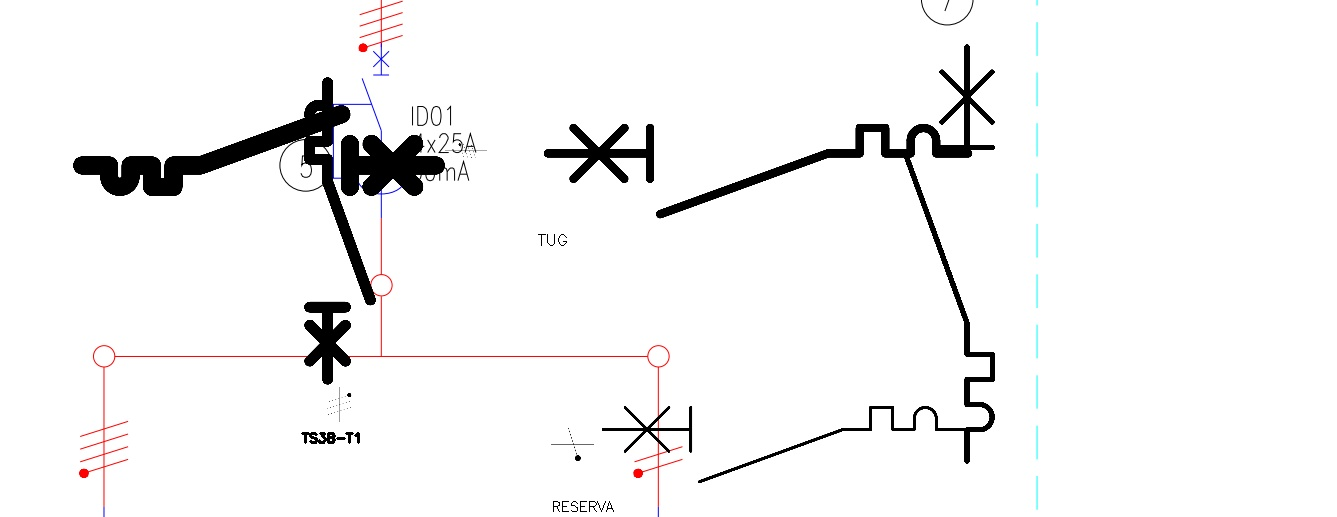interruptor_termomagnetico: (537, 117, 979, 225), (896, 36, 1003, 472), (593, 398, 972, 491), (73, 105, 445, 196), (302, 75, 378, 387)
